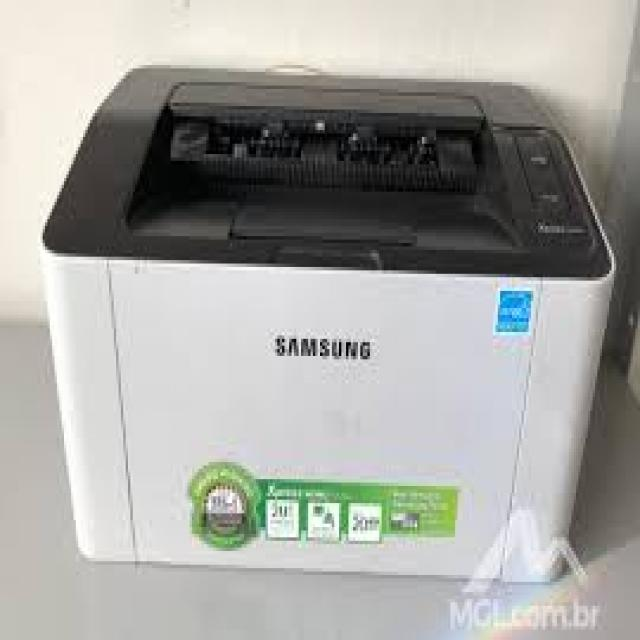printer: (36, 62, 619, 588)
